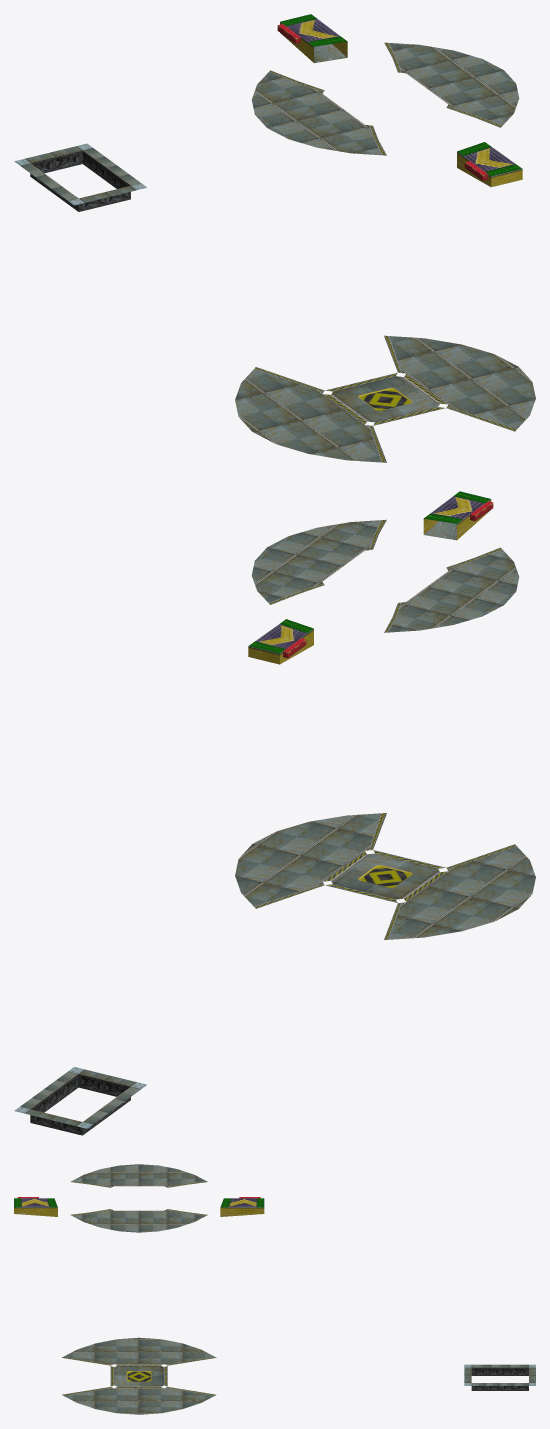
File: STG08_ONS_17.obj
3 renders of one model, top to bottom at view 1: azimuth 30°, elevation 25°; view 2: azimuth 150°, elevation 25°; view 3: azimuth 270°, elevation 25°, orthographic. The views are drawn at different scales.
Parts seen in each view (by area): view 1: Object_2; view 2: Object_2; view 3: Object_2.
Part boxes in pixels (x1,y1,x2,y2): Object_2: (14, 14, 535, 462); Object_2: (14, 491, 535, 1135); Object_2: (14, 1164, 535, 1414).
Size of the model in its own units: 510 by 571 by 1460.
